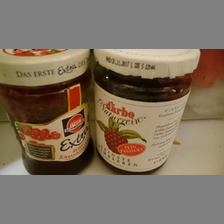jam: (92, 49, 201, 174), (1, 49, 97, 174)
